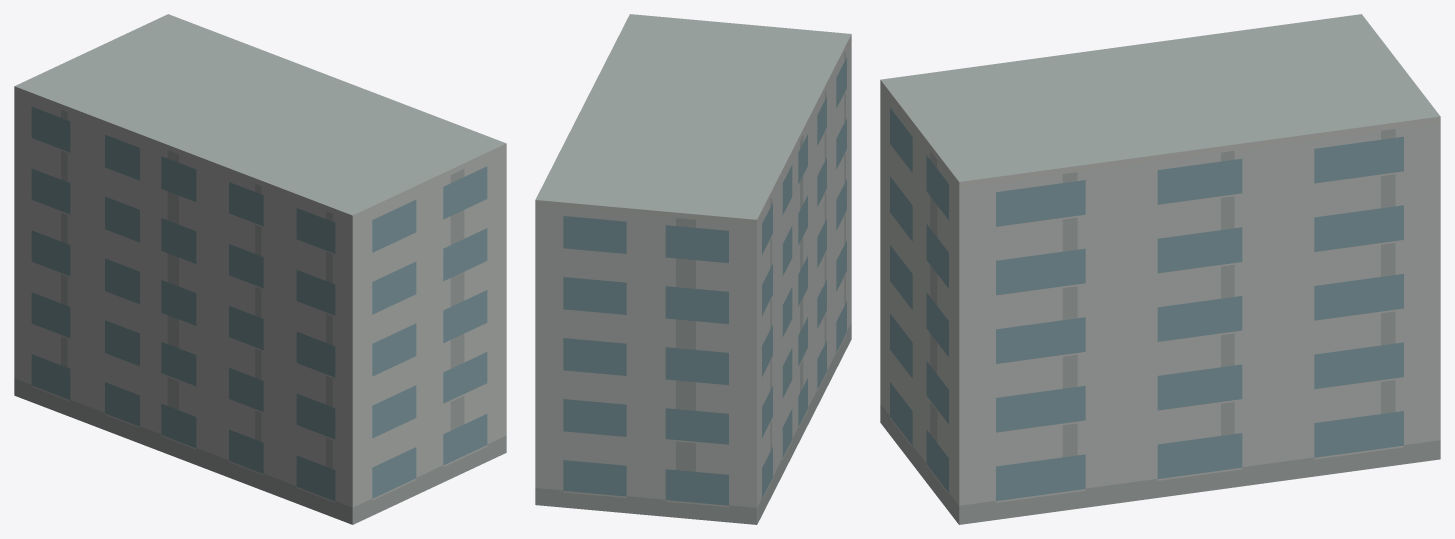
File: survey-upis-32607119.glb
3 views of the same model, side by side, from view 1: azimuth 30°, elevation 25°; view 2: azimuth 150°, elevation 25°; view 3: azimuth 270°, elevation 25° (orthographic). The views are drawn at different scales.
Visible parts, largest first — view 1: survey-upis-32607119.tmp; view 2: survey-upis-32607119.tmp; view 3: survey-upis-32607119.tmp.
Boxes of the visible parts, box(x1,y1,x2,y2) form: survey-upis-32607119.tmp: box(14, 14, 506, 524); survey-upis-32607119.tmp: box(535, 14, 851, 524); survey-upis-32607119.tmp: box(880, 14, 1440, 524).
Bounding box in the file's own units: 14.19 × 13.5 × 20.
